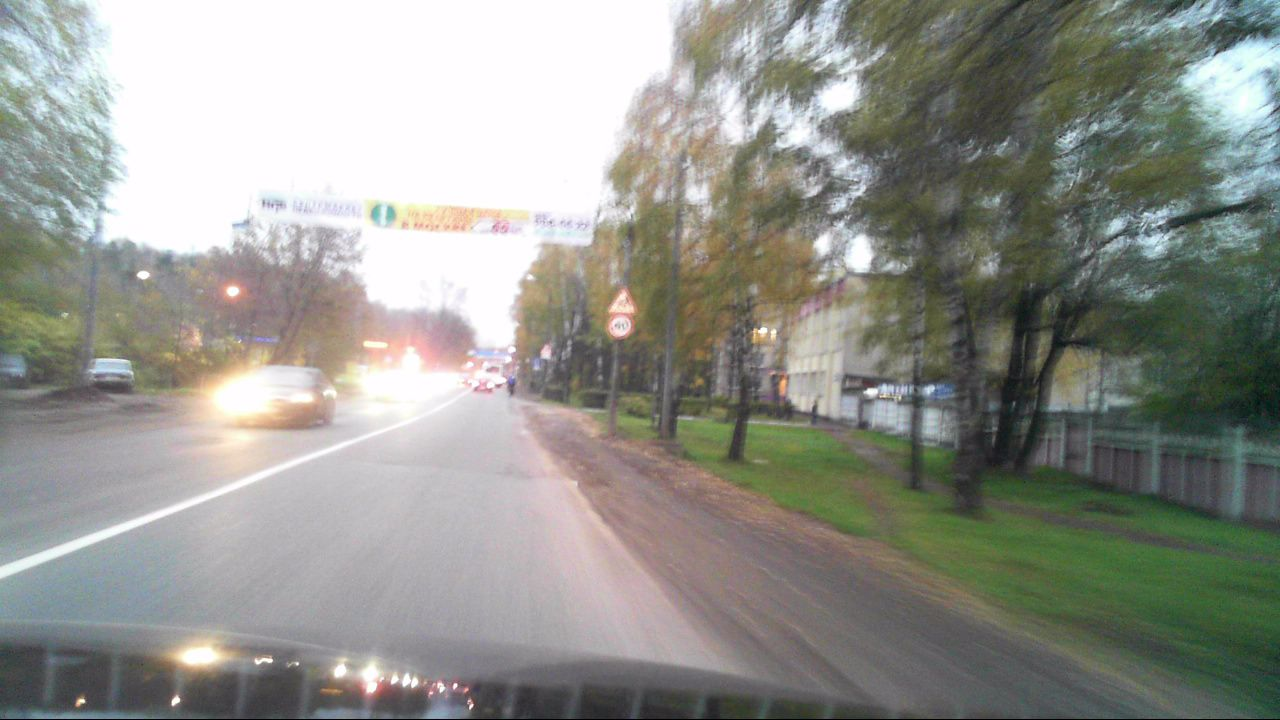speed_warning_40: (608, 315, 631, 339)
